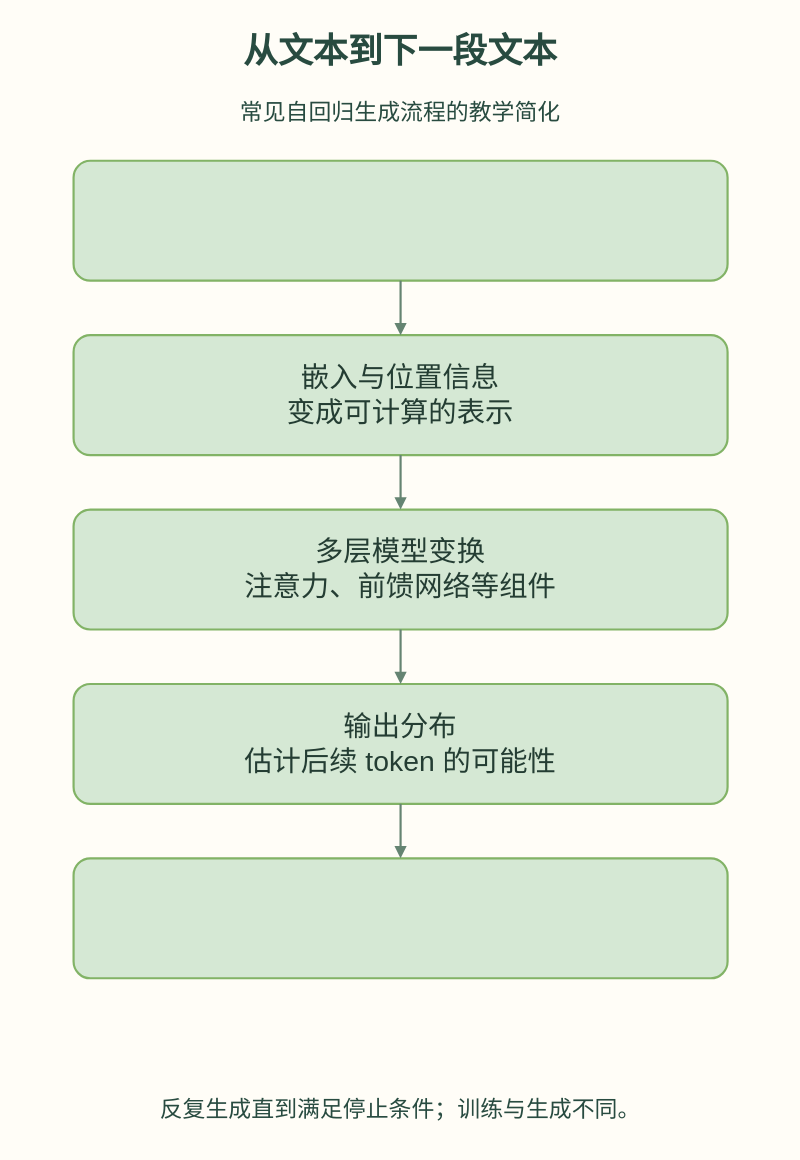
This 800x1160 diagram has some shape labels left out. Each missing label, with the box of its shape:
分词与编码 文本变成 token 序列: (72, 159, 728, 281)
选择并输出 token 加入上下文，继续下一步: (72, 857, 728, 979)
